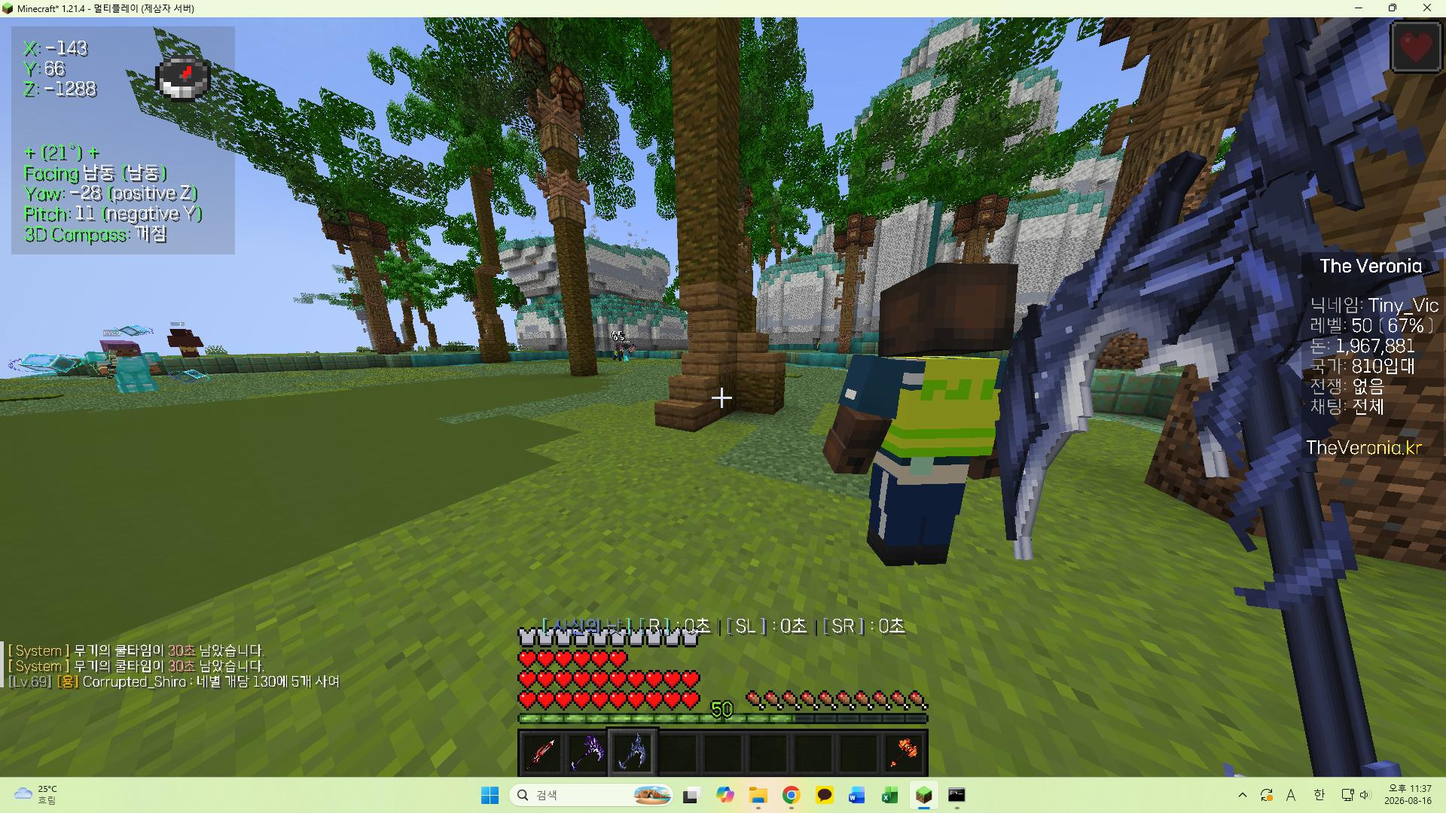Guardian: (824, 263, 1017, 565)
